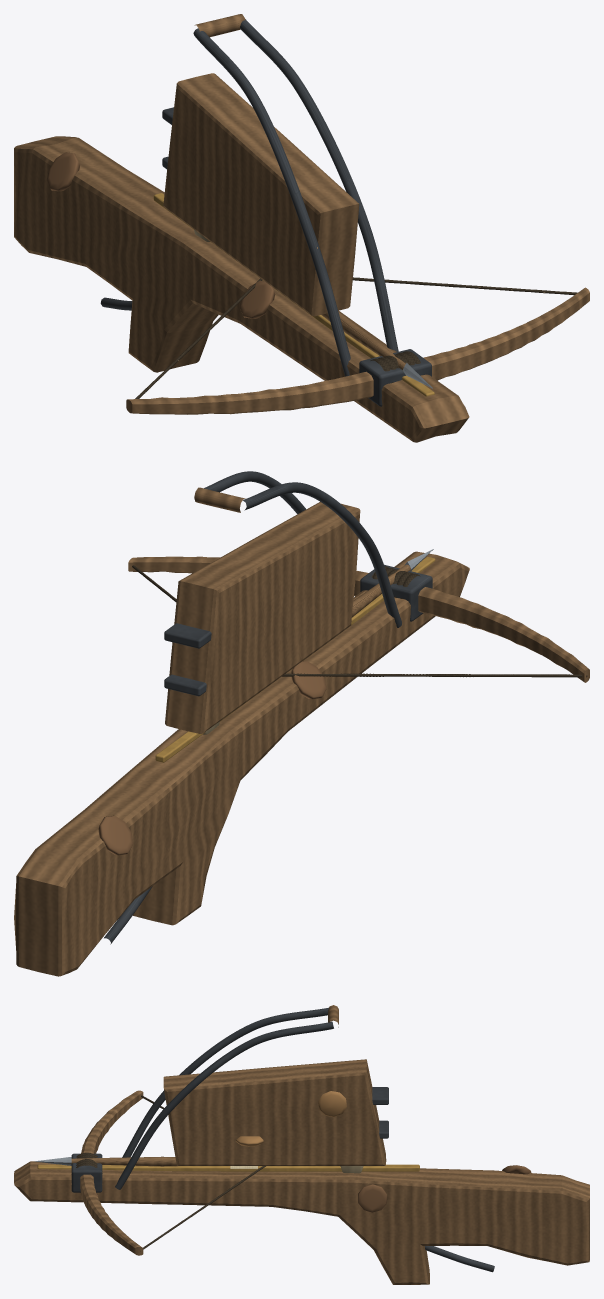
Rendered from repeating-crossbow.glb.
3 renders of one model, top to bottom at view 1: azimuth 30°, elevation 25°; view 2: azimuth 150°, elevation 25°; view 3: azimuth 270°, elevation 25°, orthographic. The views are drawn at different scales.
Visible parts, largest first — view 1: wood / oiled hardwood, darksteel / oil-blackened fittings, drawbore peg, cord / waxed silk cord wrap, brass / polished brass furniture; view 2: wood / oiled hardwood, darksteel / oil-blackened fittings, drawbore peg, cord / waxed silk cord wrap, brass / polished brass furniture; view 3: wood / oiled hardwood, darksteel / oil-blackened fittings, brass / polished brass furniture, drawbore peg, peened pin, cord / waxed silk cord wrap.
Boxes of the visible parts, x1,y1,x2,y2 form: wood / oiled hardwood: (14, 14, 589, 442); darksteel / oil-blackened fittings: (100, 19, 431, 406); drawbore peg: (46, 152, 470, 344); cord / waxed silk cord wrap: (135, 277, 577, 398); brass / polished brass furniture: (153, 193, 434, 396); wood / oiled hardwood: (14, 487, 589, 976); darksteel / oil-blackened fittings: (104, 471, 432, 944); drawbore peg: (98, 661, 326, 855); cord / waxed silk cord wrap: (132, 565, 587, 677); brass / polished brass furniture: (155, 556, 435, 762); wood / oiled hardwood: (14, 1005, 589, 1284); darksteel / oil-blackened fittings: (71, 1007, 494, 1272); brass / polished brass furniture: (37, 1164, 419, 1171); drawbore peg: (95, 1165, 531, 1212); peened pin: (159, 1091, 346, 1146); cord / waxed silk cord wrap: (76, 1095, 265, 1251).
Size of the model in its own units: 0.6018 by 0.4748 by 0.9345.
10 materials, 7 textured.
